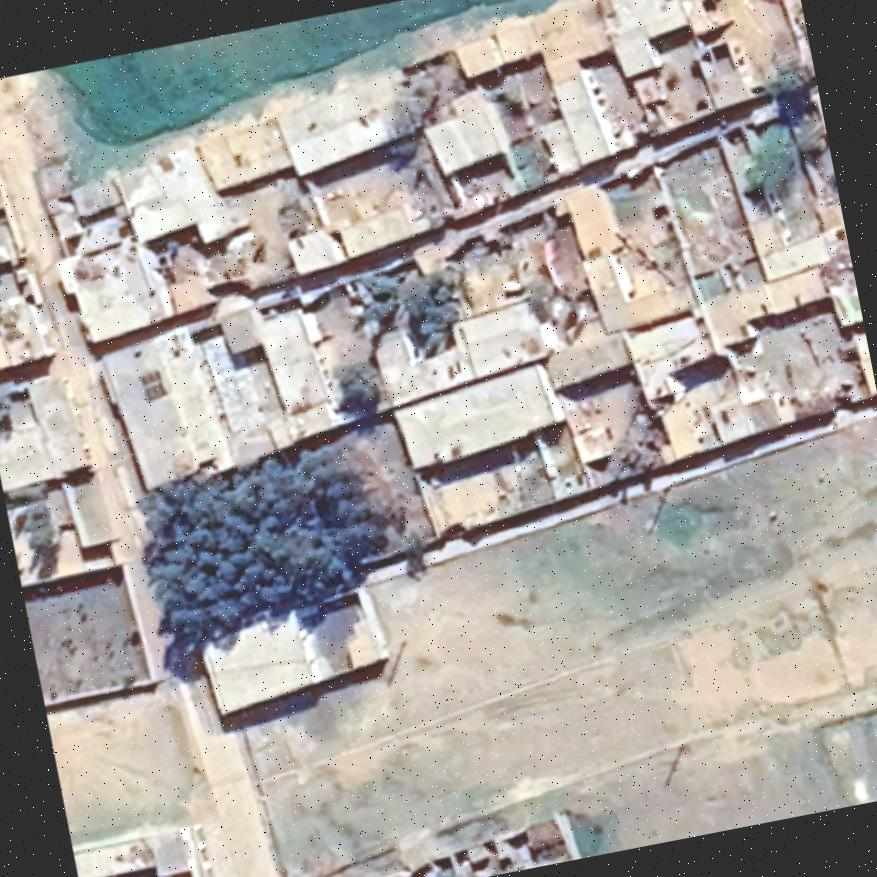Solarpanel: (132, 364, 170, 406)
